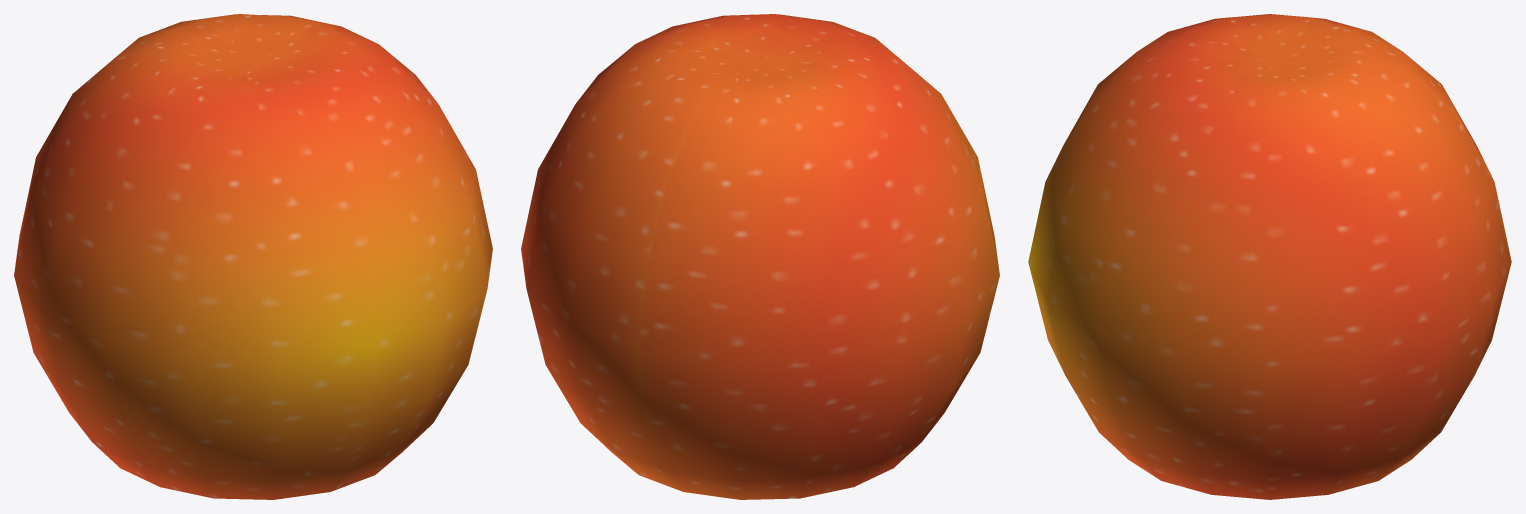
The model's file is orange.FBX.
3 views of the same model, side by side, from view 1: azimuth 30°, elevation 25°; view 2: azimuth 150°, elevation 25°; view 3: azimuth 270°, elevation 25° (orthographic).
Parts seen in each view (by area): view 1: Orange; view 2: Orange; view 3: Orange.
Boxes of the visible parts, <box> form: Orange: <box>14,14,492,499</box>; Orange: <box>521,14,999,499</box>; Orange: <box>1028,14,1511,499</box>.
Bounding box in the file's own units: 9.09 × 8.24 × 9.09.
